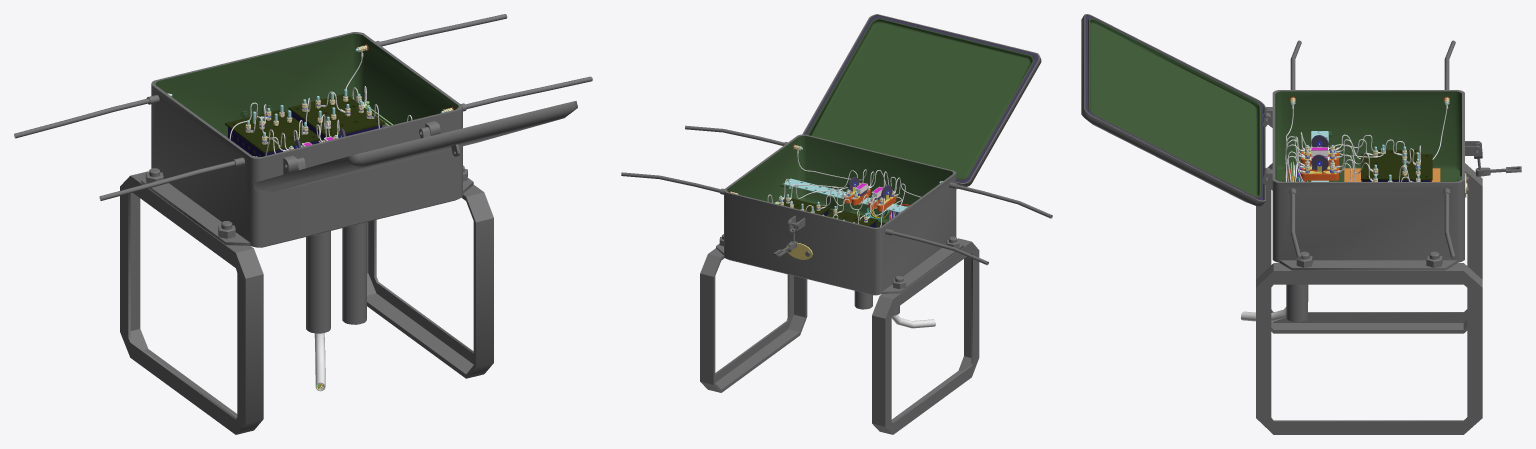
File: transform_yacshik_mesh2.fbx
3 views of the same model, side by side, from view 1: azimuth 30°, elevation 25°; view 2: azimuth 150°, elevation 25°; view 3: azimuth 270°, elevation 25° (orthographic). The views are drawn at different scales.
Visible parts, largest first — view 1: kozyh_krishka_nogi.002, transformator5.002, transformator5.001, BezierCurve, korobka2.001, BezierCurve.001; view 2: kozyh_krishka_nogi.002, korobka2.001, BezierCurve, transformator5.001, transformator5.002; view 3: kozyh_krishka_nogi.002, korobka2.001, transformator5.002, BezierCurve.
Boxes of the visible parts, <box> form: kozyh_krishka_nogi.002: <box>14,14,592,434</box>; transformator5.002: <box>225,105,321,156</box>; transformator5.001: <box>288,89,385,142</box>; BezierCurve: <box>229,56,412,155</box>; korobka2.001: <box>245,52,374,151</box>; BezierCurve.001: <box>314,333,325,391</box>; kozyh_krishka_nogi.002: <box>621,14,1052,434</box>; korobka2.001: <box>778,150,897,222</box>; BezierCurve: <box>767,153,920,226</box>; transformator5.001: <box>779,178,907,215</box>; transformator5.002: <box>822,206,877,227</box>; kozyh_krishka_nogi.002: <box>1081,14,1521,434</box>; korobka2.001: <box>1292,105,1447,181</box>; transformator5.002: <box>1361,146,1432,181</box>; BezierCurve: <box>1286,108,1447,181</box>.
Bounding box in the file's own units: 878 × 604 × 757.
